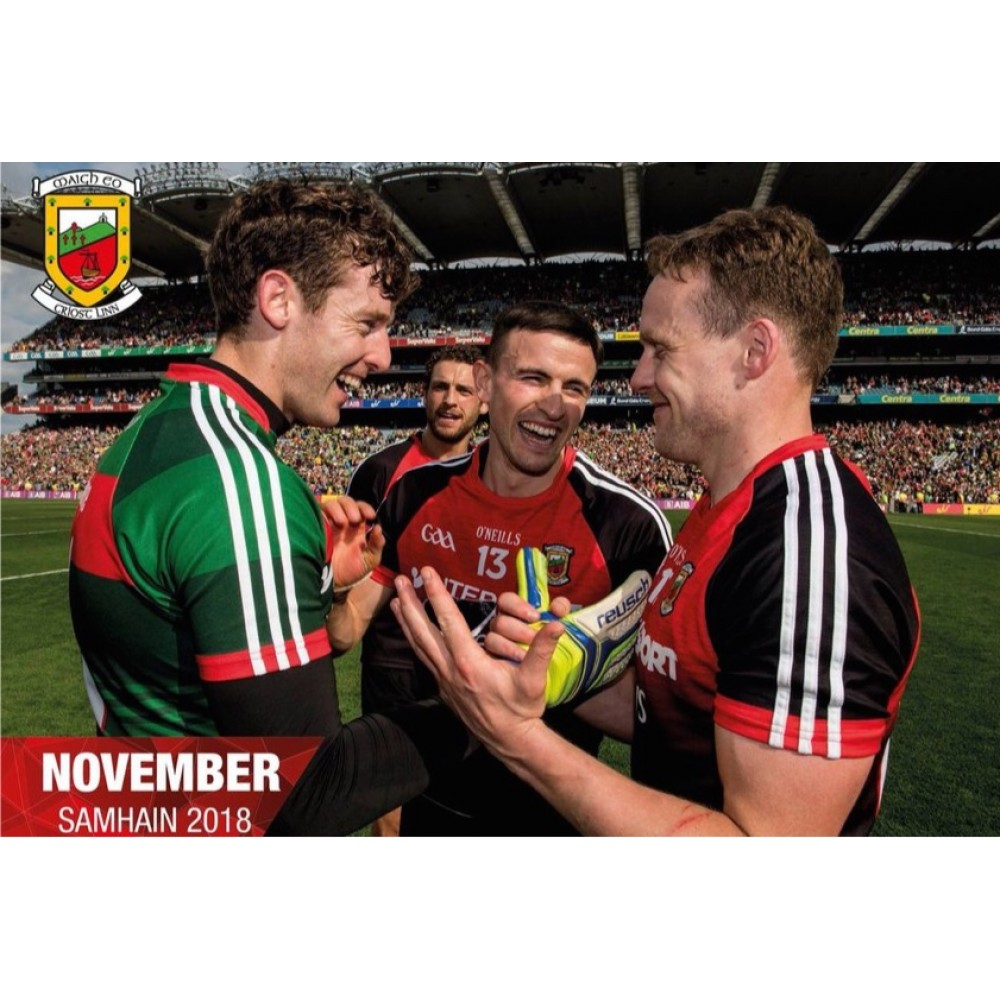player: (599, 198, 931, 777), (167, 165, 416, 785), (445, 286, 657, 700), (407, 324, 469, 502)
